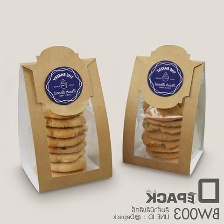snack: (11, 39, 118, 198), (118, 37, 212, 181)
